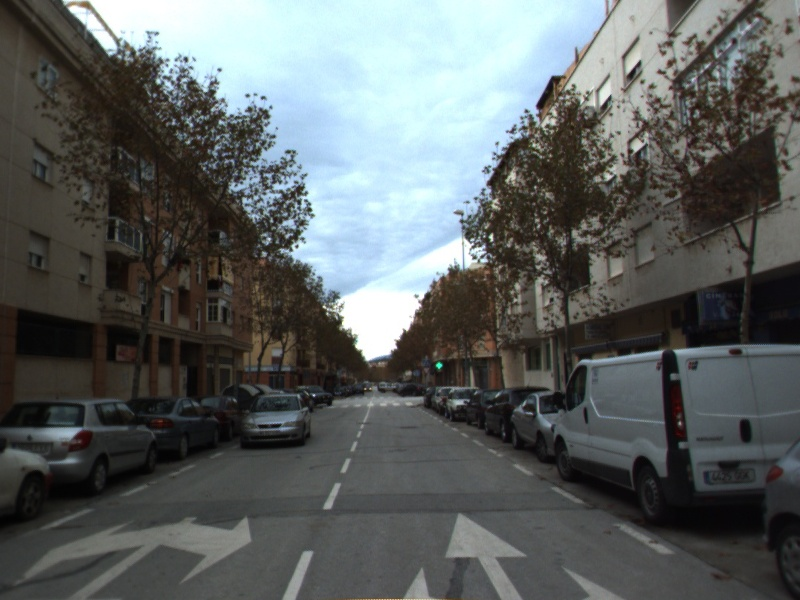STRAIGHT_LEFT_RIGHT: (397, 507, 632, 600)
